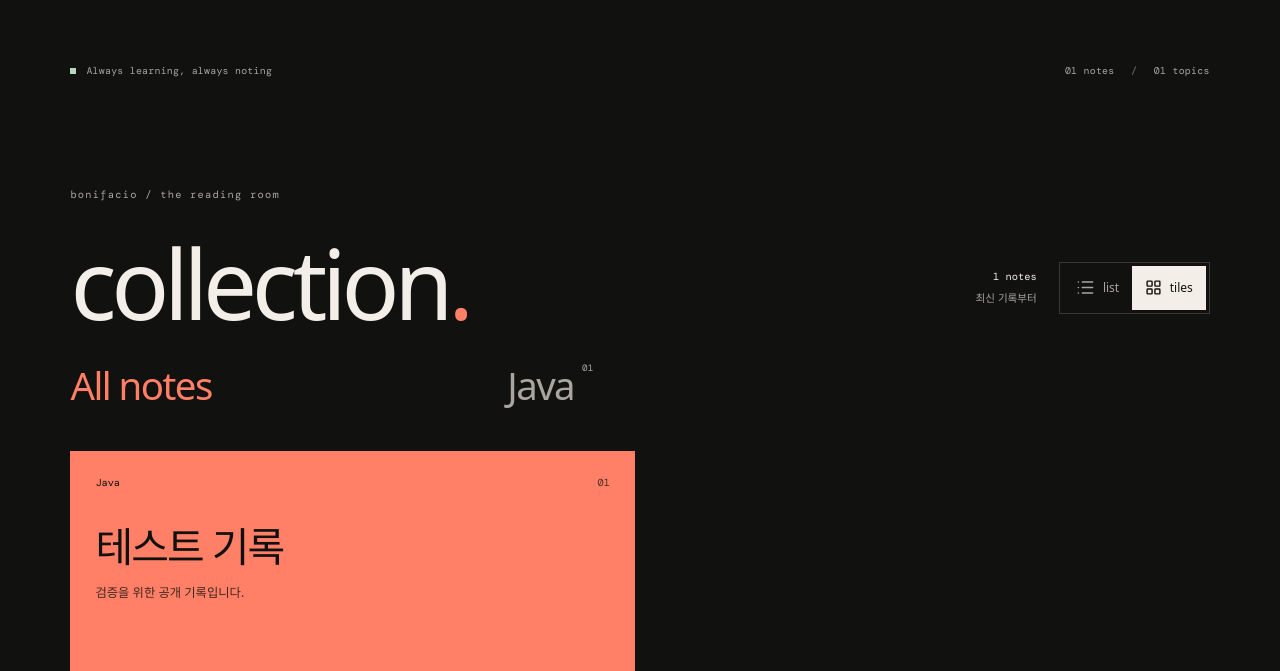
Scenario: Bonifacio Notes app › switches between list and tiles and retains the selected view when filtering
(page scrolled)
Click the button with aria-label "목록 보기" at (1098,288), box [1063,266,1132,310]
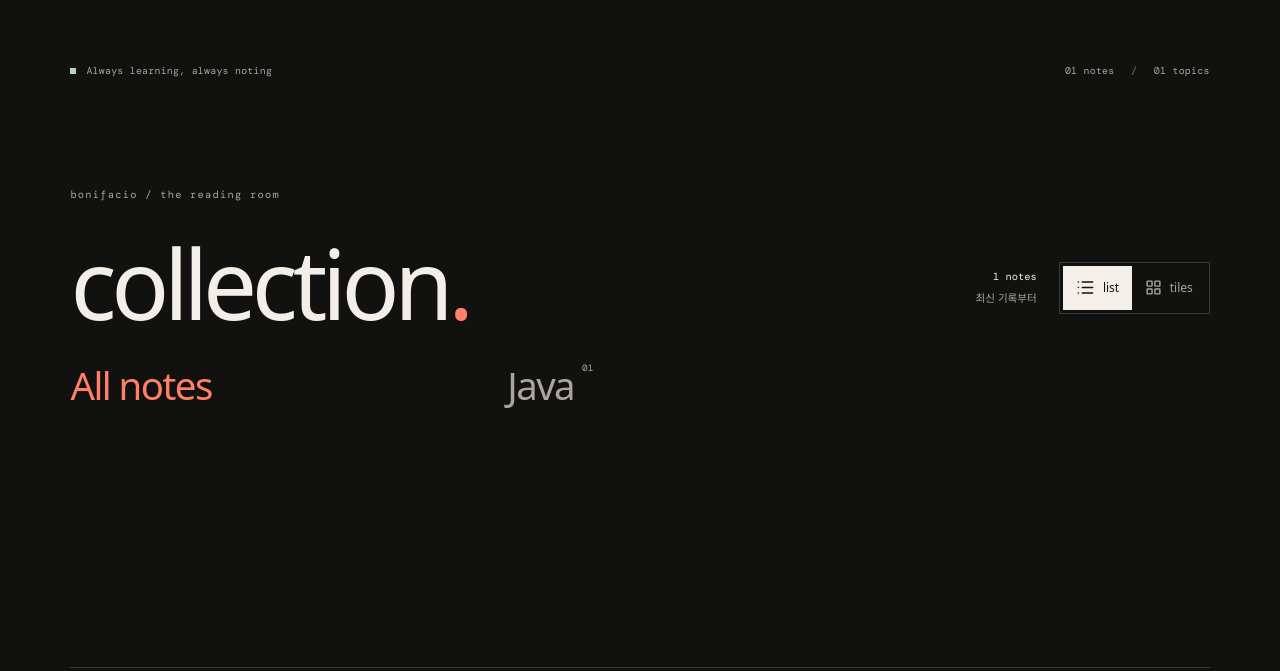
Check: the heading "collection." is shown, box [70,222,469,348]
Check: the button with aria-label "목록 보기" is pressed, box [1063,266,1132,310]
Click the link "Java 01" at (550,390), box [507,353,593,427]
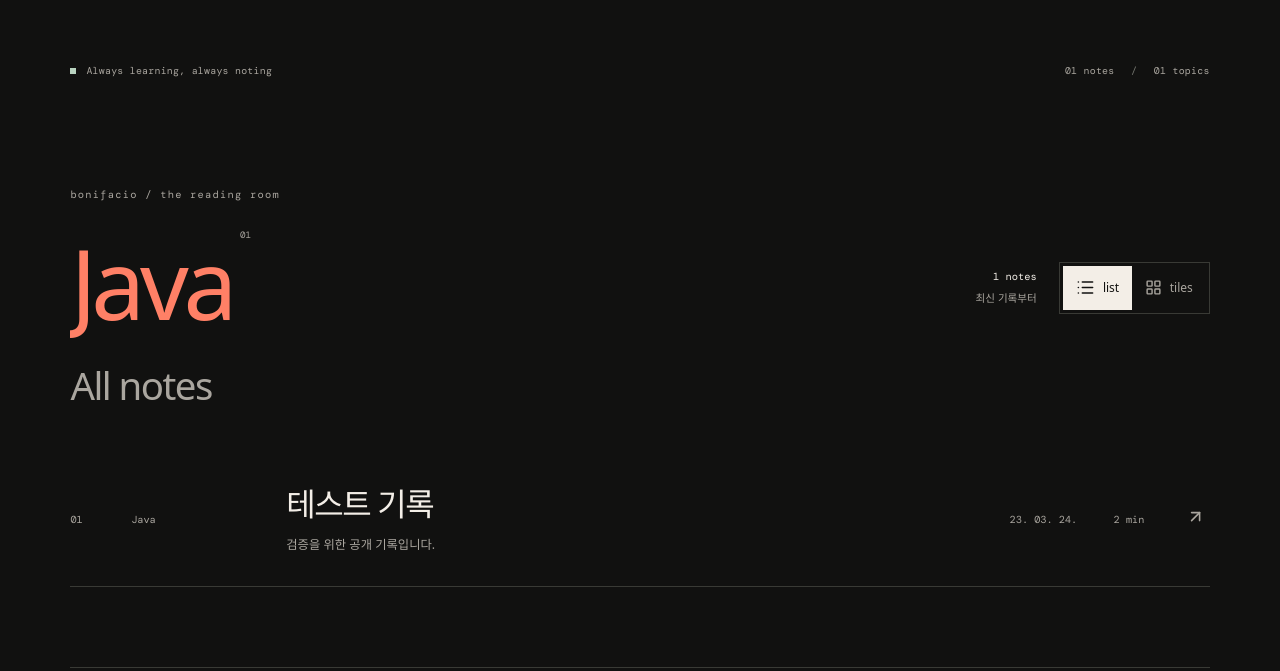
Check: the heading "collection." is gone
Click the button with aria-label "타일 보기" at (1169,288), box [1132,266,1206,310]
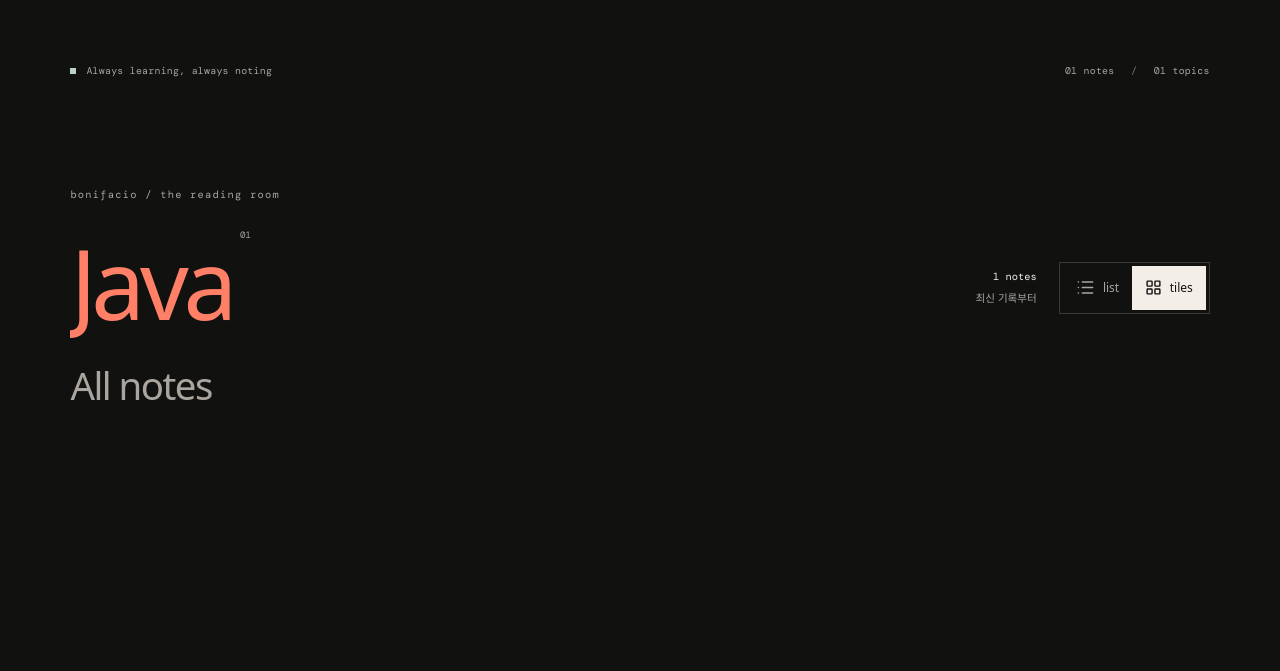
Check: the link "Java 01" is marked as current, box [70,222,251,348]
Click the link "All notes" at (141,385), box [70,359,212,411]
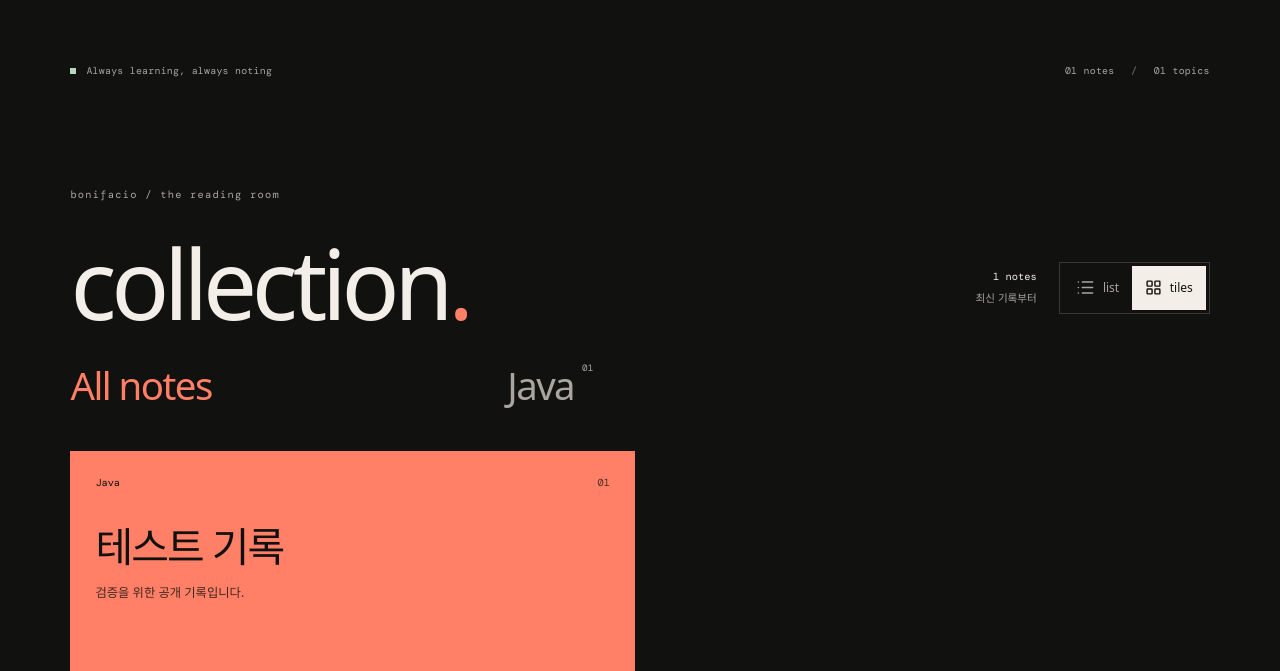
Check: the heading "collection." is shown, box [70,222,469,348]
